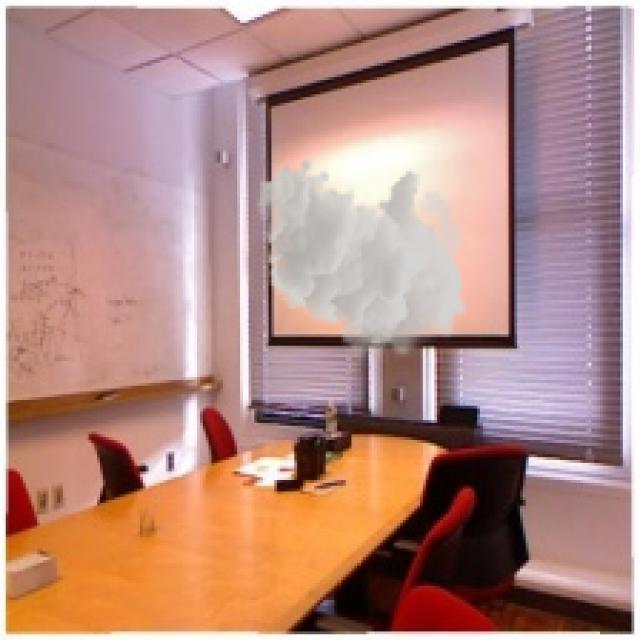Smoke: (257, 157, 469, 366)
